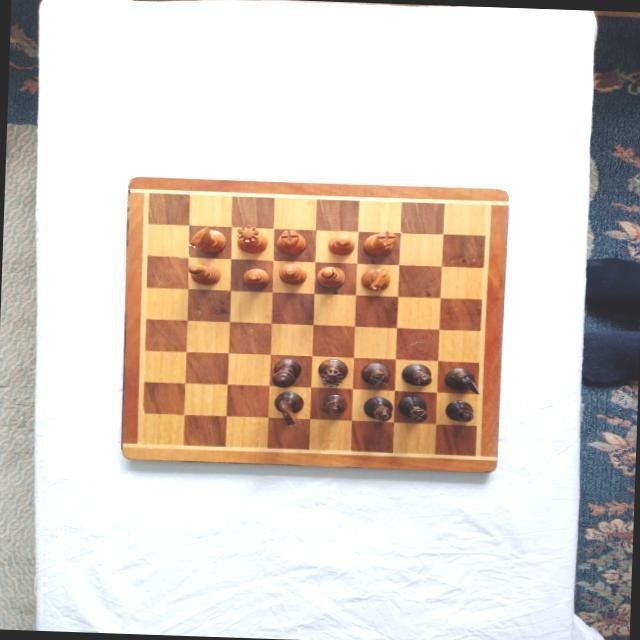black-bishop: (362, 395, 393, 421), (400, 362, 431, 385)
black-king: (272, 357, 300, 387)
black-knight: (272, 390, 303, 426), (444, 366, 480, 394)
black-pawn: (445, 399, 475, 421), (319, 392, 345, 415)
black-queen: (316, 358, 348, 386)
black-rook: (359, 360, 390, 387), (396, 395, 427, 421)
white-bishop: (187, 260, 221, 283), (316, 264, 346, 287)
white-king: (277, 262, 306, 285)
white-knight: (187, 223, 226, 252), (360, 266, 390, 290)
white-pawn: (241, 266, 270, 287), (328, 233, 355, 255)
white-queen: (235, 223, 268, 252)
white-rook: (363, 228, 396, 256), (275, 229, 307, 255)
